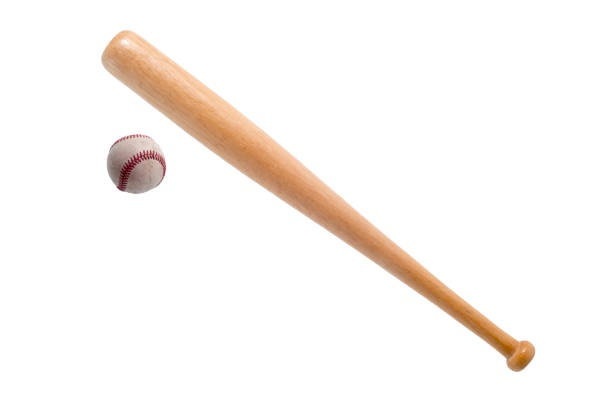bita: (100, 28, 528, 361)
